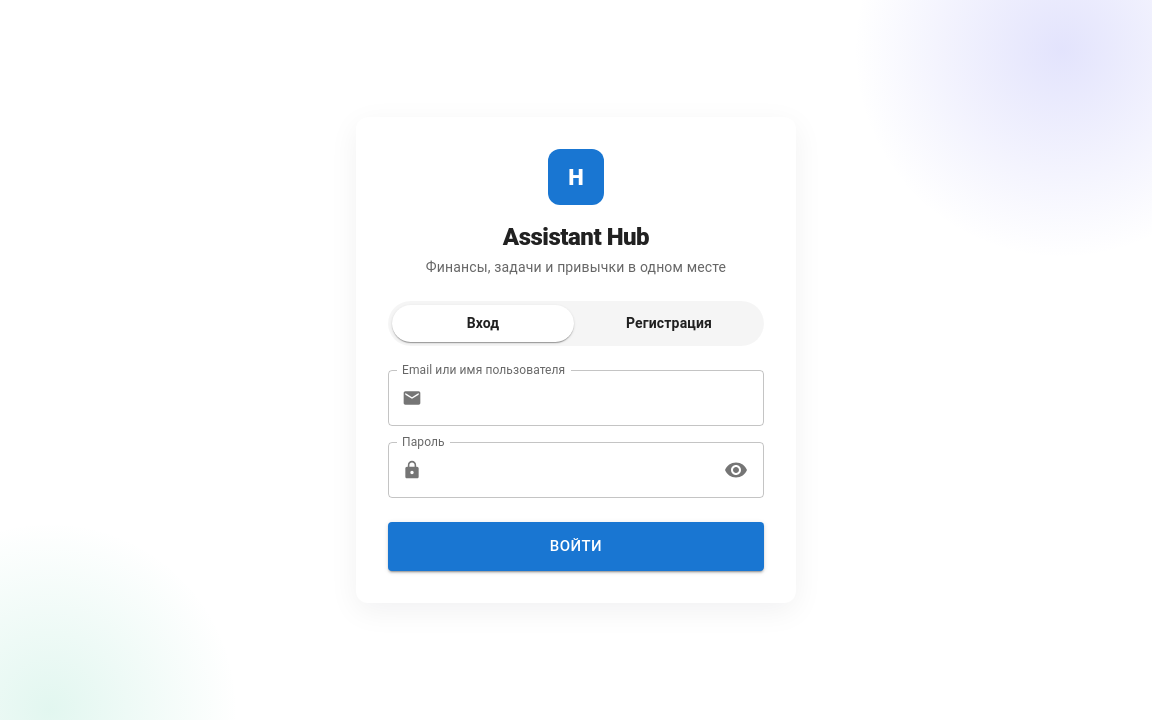
Test: Login page buttons › switches to register tab and shows Зарегистрироваться
Click the text "Регистрация": click(669, 323) [626,315,712,331]
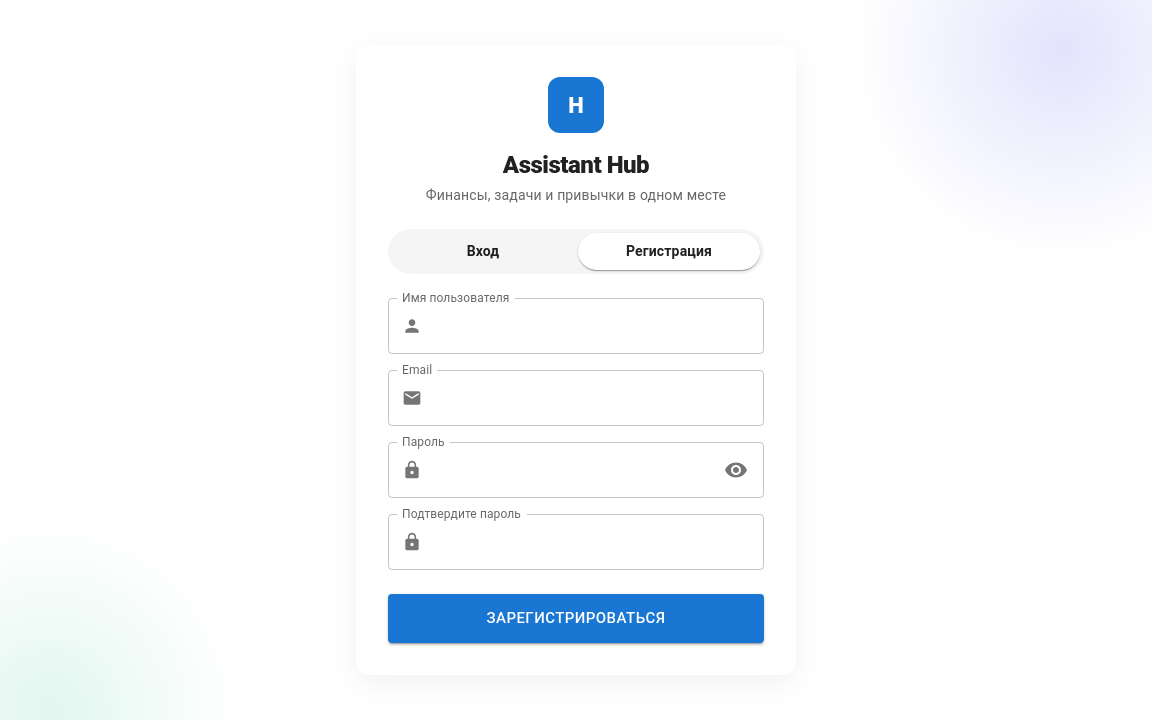
Now the button "Зарегистрироваться" is shown, box [388,594,764,643]
